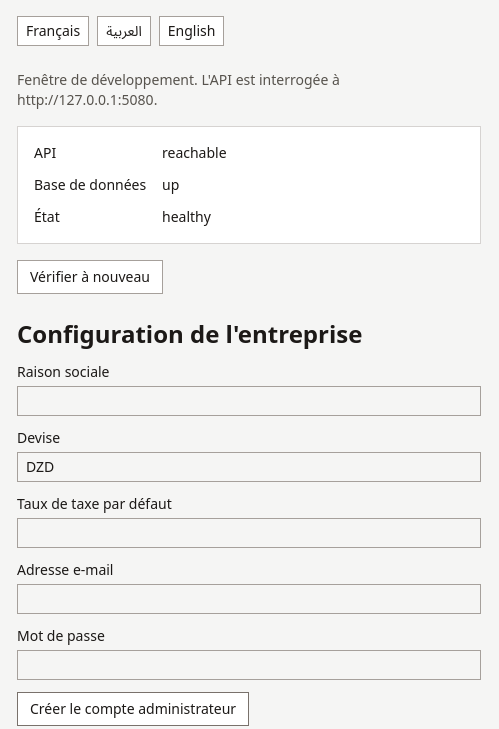
Test: App › does not submit setup when the password is shorter than 12 characters
The image size is (499, 729).
expect the heading "Configuration de l'entreprise" is shown: met, box [17,317,362,350]
Type "Pexilio" into the field labelled "Raison sociale" at point(249, 401), box [17,386,481,416]
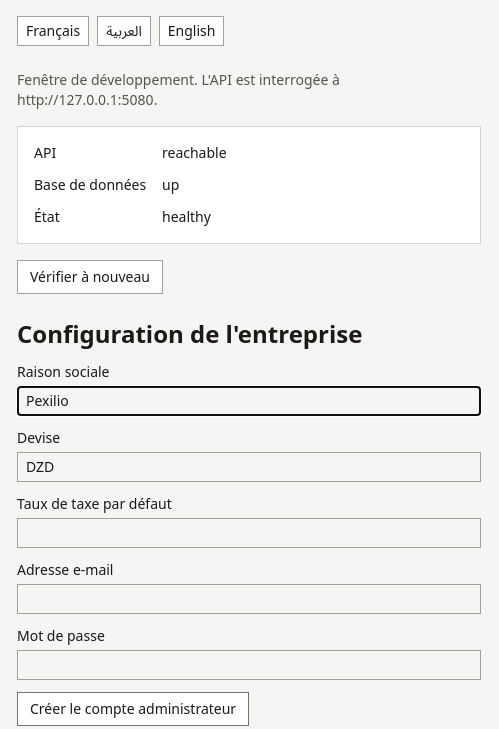
Type "0.19" into the field labelled "Taux de taxe par défaut" at point(249, 533), box [17,518,481,548]
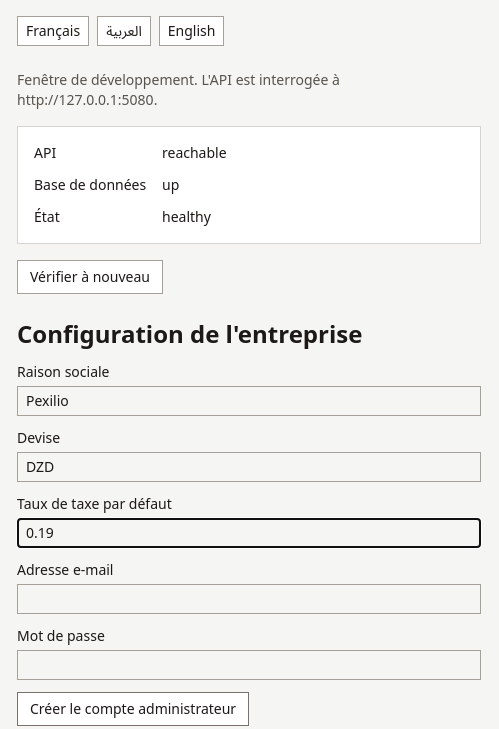
Type "owner@example.com" into the field labelled "Adresse e-mail" at point(249, 599), box [17,584,481,614]
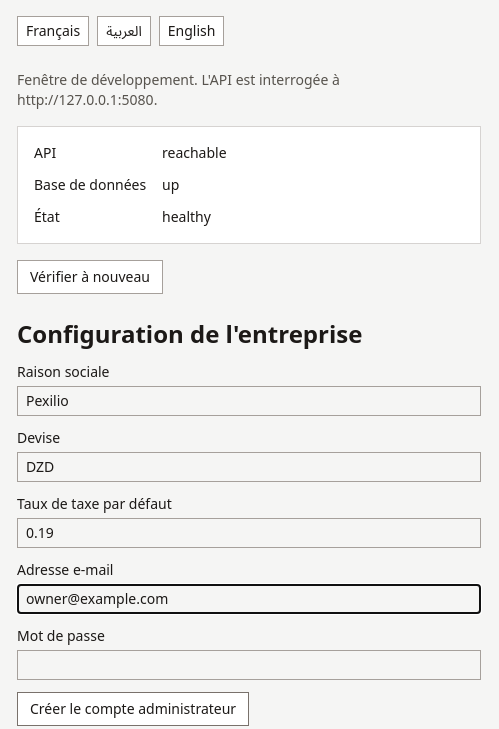
Type "short" into the password field labelled "Mot de passe" at point(249, 665), box [17,650,481,680]
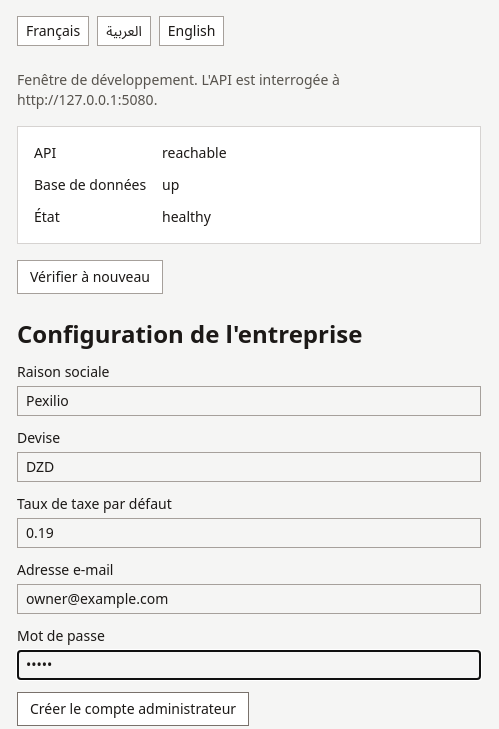
Click the button "Créer le compte administrateur" at point(133, 709), box [17,692,249,726]
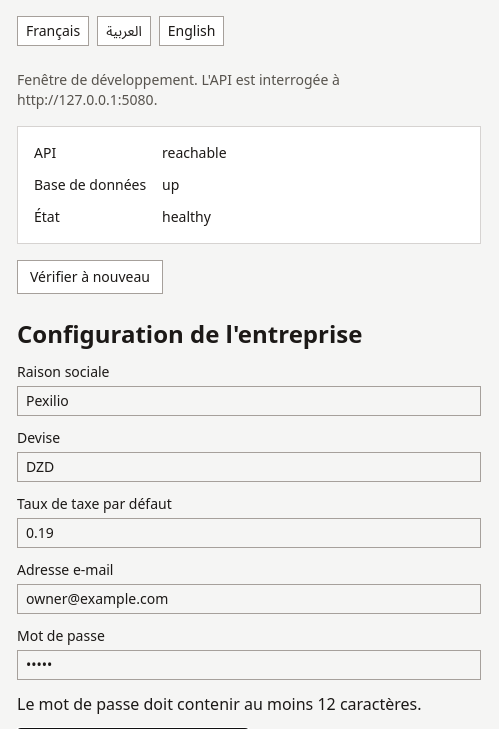
expect the message reads "Le mot de passe doit contenir au moins 12 caractères.": met, box [17,693,422,715]
